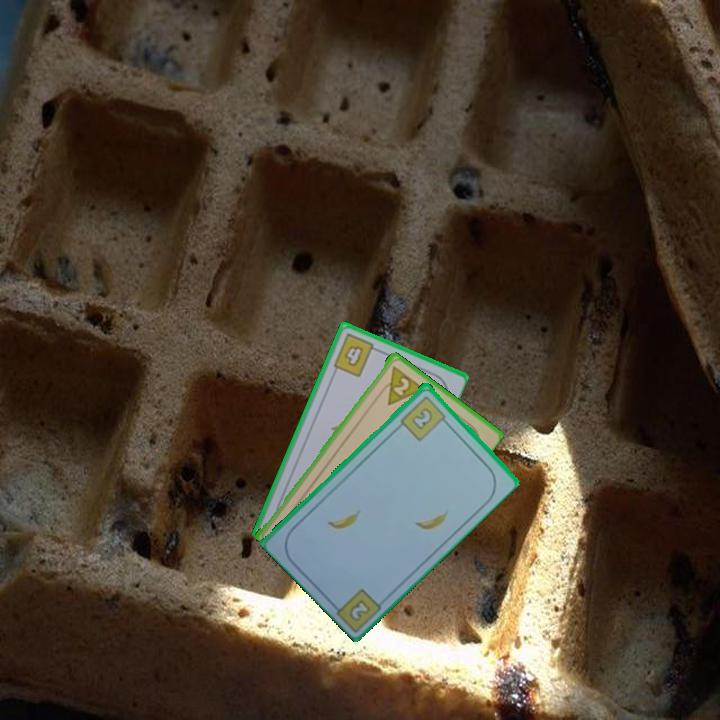2b: (397, 392, 451, 443), (347, 598, 371, 622)
2p: (375, 362, 426, 408)
4b: (329, 330, 382, 380)
